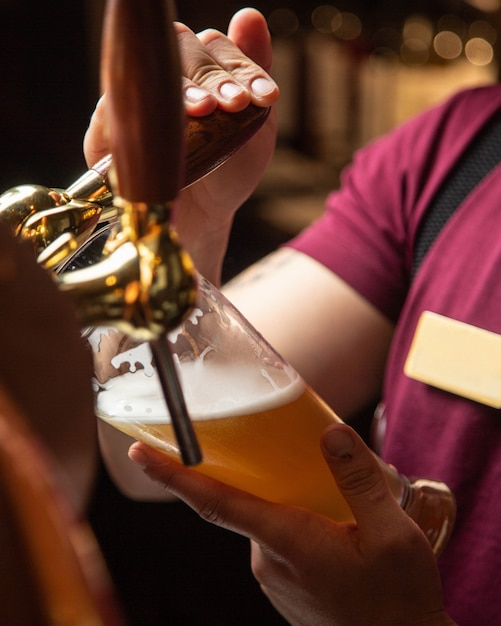alcohol: (49, 220, 463, 563)
